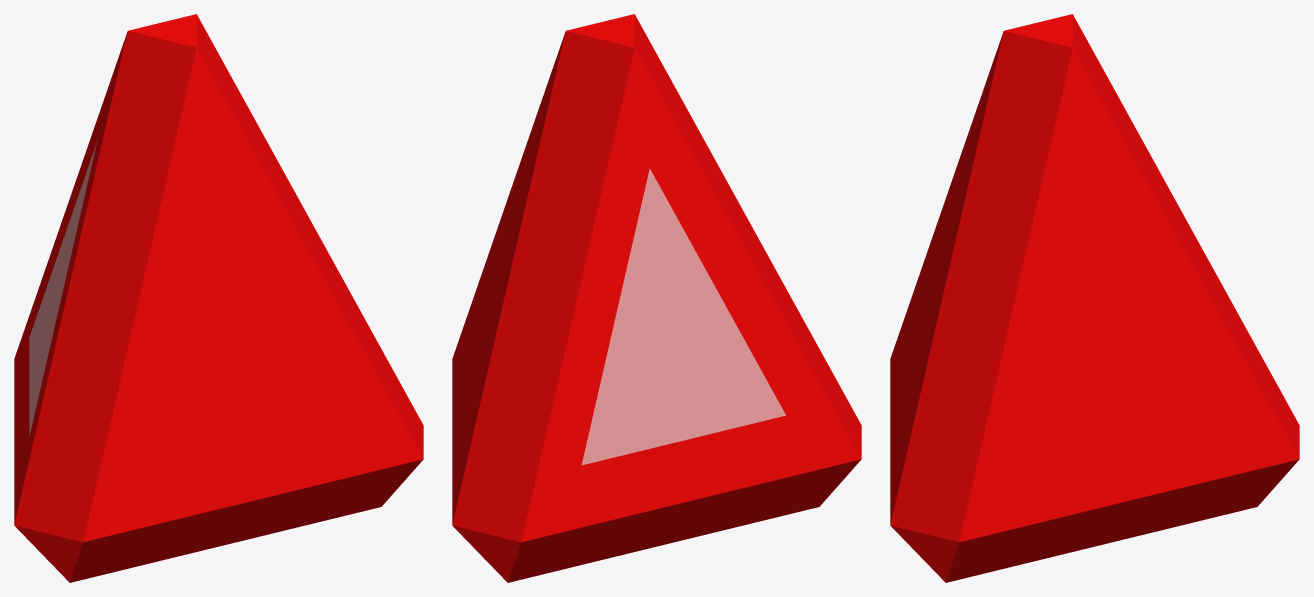
The model's file is pomegranate03.obj.
3 views of the same model, side by side, from view 1: azimuth 30°, elevation 25°; view 2: azimuth 150°, elevation 25°; view 3: azimuth 270°, elevation 25° (orthographic).
Parts seen in each view (by area): view 1: Cone; view 2: Cone; view 3: Cone.
Part boxes in pixels (left/top/right/bottom): Cone: left=14, top=14, right=423, bottom=582; Cone: left=452, top=14, right=861, bottom=582; Cone: left=890, top=14, right=1299, bottom=582.
Size of the model in its own units: 0.00776 by 0.00863 by 0.00672.
1 material, 1 textured.
